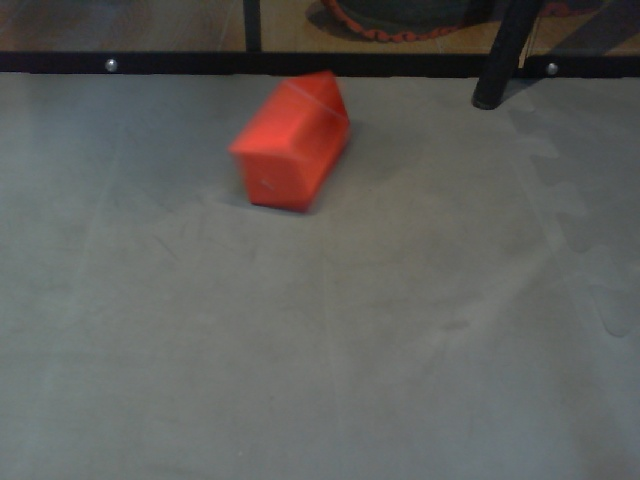RedSample: (227, 64, 352, 219)
